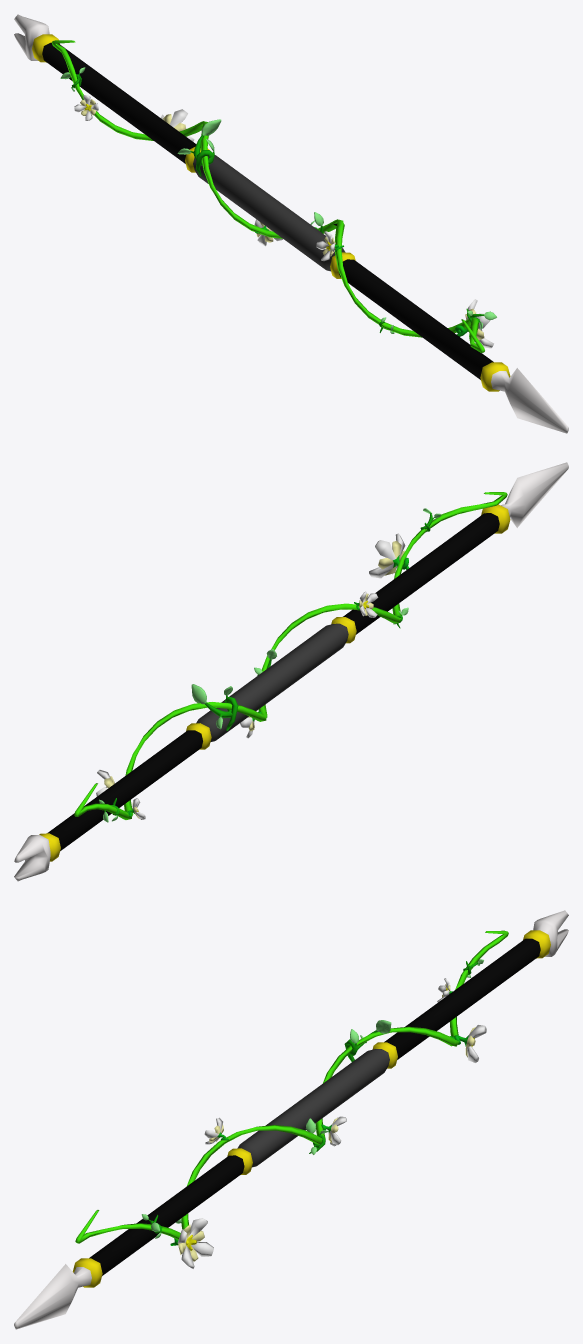
Rendered from Spear.fbx.
3 views of the same model, one above another, from view 1: azimuth 30°, elevation 25°; view 2: azimuth 150°, elevation 25°; view 3: azimuth 330°, elevation 25° (orthographic).
Visible parts, largest first — view 1: Cube, Cube.001; view 2: Cube, Cube.005, Cube.001; view 3: Cube, Cube.005.
Part boxes in pixels (left/top/right/bottom): Cube: left=14, top=14, right=568, bottom=433; Cube.001: left=177, top=119, right=221, bottom=176; Cube: left=14, top=462, right=568, bottom=881; Cube.005: left=369, top=533, right=408, bottom=578; Cube.001: left=191, top=684, right=238, bottom=730; Cube: left=14, top=910, right=568, bottom=1329; Cube.005: left=170, top=1218, right=213, bottom=1268.
Size of the model in its own units: 125 by 119 by 1323.
